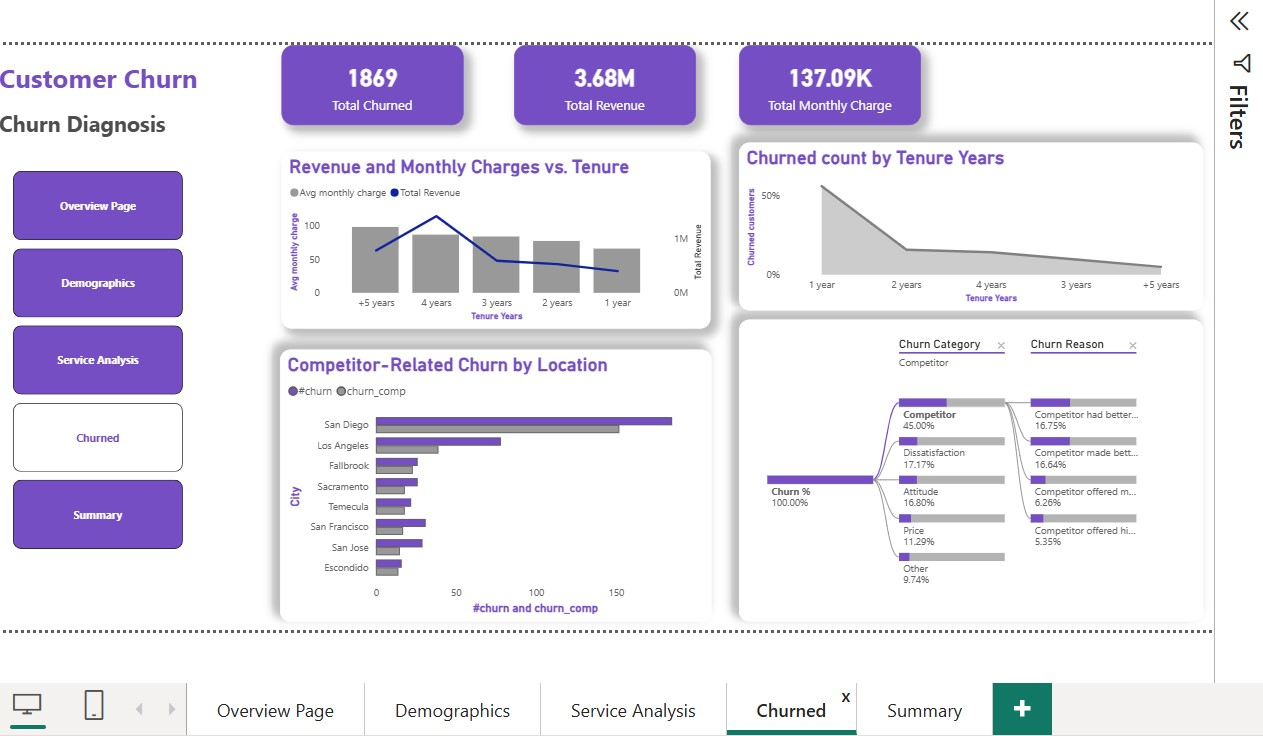

The page's visual inventory and layout, read from the dashboard file:
{"tool":"powerbi","page":{"name":"Churned","canvas":[1500,720],"ordinal":3},"visuals":[{"type":"clusteredBarChart","title":"Competitor-Related Churn by Location","fields":{"Category":["telecom_customer_churn.City"],"Y":["Measure_Table.#churn","Measure_Table.churn_comp"]},"box":[349.9,373.8,531.3,335.6],"z":0},{"type":"decompositionTreeVisual","fields":{"Analyze":["Measure_Table.% customer changed"],"ExplainBy":["telecom_customer_churn.Churn Category","telecom_customer_churn.Churn Reason"]},"box":[916.2,337.2,571,372.2],"z":1000},{"type":"areaChart","title":"Churned count by Tenure Years","fields":{"Category":["telecom_customer_churn.Tenure Group (Years)"],"Y":["Measure_Table.% customer changed"]},"box":[916.2,119.3,571,206.8],"z":2000},{"type":"card","fields":{"Values":["Measure_Table.#churn"]},"box":[353.1,0,224.3,98.6],"z":3000},{"type":"card","fields":{"Values":["Measure_Table.Total Monthly Charge"]},"box":[916.2,0,224.3,98.6],"z":4000},{"type":"card","fields":{"Values":["Measure_Table.Total Revenue"]},"box":[639.4,0,224.3,98.6],"z":5000},{"type":"lineClusteredColumnComboChart","title":"Revenue and Monthly Charges vs. Tenure","fields":{"Category":["telecom_customer_churn.Tenure Group (Years)"],"Y":["Measure_Table.Avg monthly charge"],"Y2":["Measure_Table.Total Revenue"]},"box":[353.1,130.4,528.1,217.9],"z":6000},{"type":"textbox","box":[0,0,281.5,141.6],"z":7000},{"type":"pageNavigator","box":[22,155,209,466],"z":8001}]}

Visuals, with their boxes on the page's 1500x720 design canvas (x1, y1, x2, y2). These are canvas units, not pixel positions in the 1263x736 screenshot, which may show the page scaled, cropped or inside an application window:
"Competitor-Related Churn by Location" clusteredBarChart: BBox(350, 374, 881, 709)
decompositionTreeVisual - Measure_Table.% customer changed x telecom_customer_churn.Churn Category: BBox(916, 337, 1487, 709)
"Churned count by Tenure Years" areaChart: BBox(916, 119, 1487, 326)
card - Measure_Table.#churn: BBox(353, 0, 577, 99)
card - Measure_Table.Total Monthly Charge: BBox(916, 0, 1140, 99)
card - Measure_Table.Total Revenue: BBox(639, 0, 864, 99)
"Revenue and Monthly Charges vs. Tenure" lineClusteredColumnComboChart: BBox(353, 130, 881, 348)
textbox: BBox(0, 0, 282, 142)
pageNavigator: BBox(22, 155, 231, 621)
